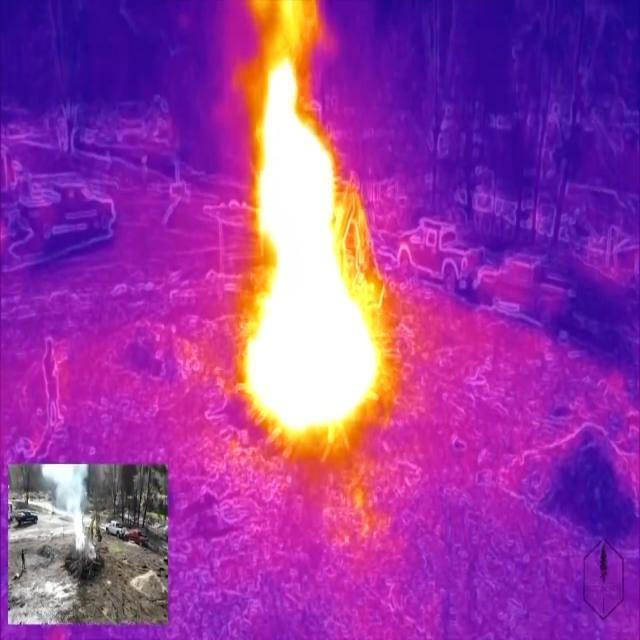fire: (243, 53, 386, 441)
